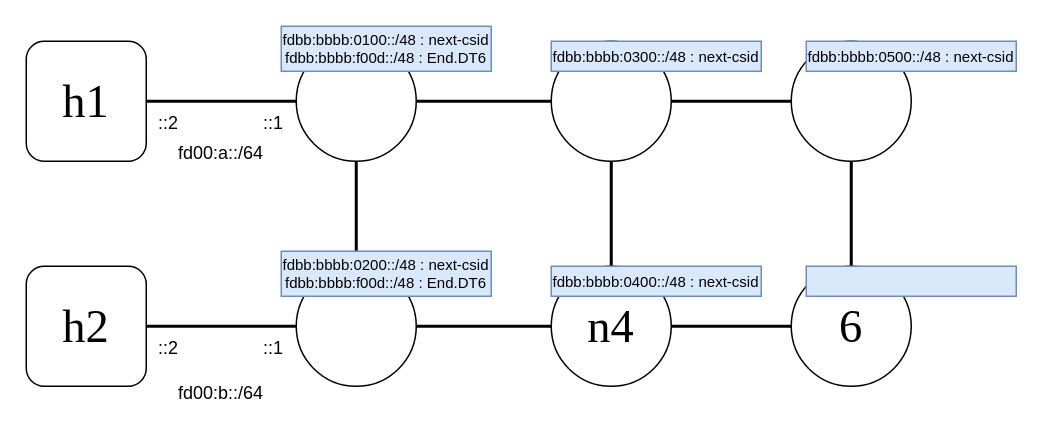
Image size: 1043x443. Some labels were removed from this diagram. The shapes that lost their labels are listed below. From the top down, each one's box as (x1, y1, x2, y2) in pixels, then its label:
(295, 40, 416, 161): n1
(550, 40, 671, 161): n3
(790, 40, 911, 161): n5
(805, 265, 1016, 296): fdbb:bbbb:0600::/48 : next-csid
(295, 265, 416, 386): n2
